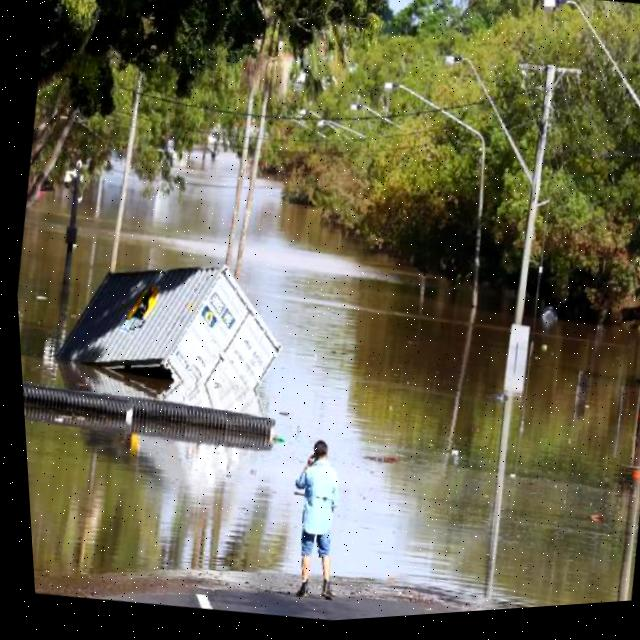civilian: (276, 427, 357, 614)
